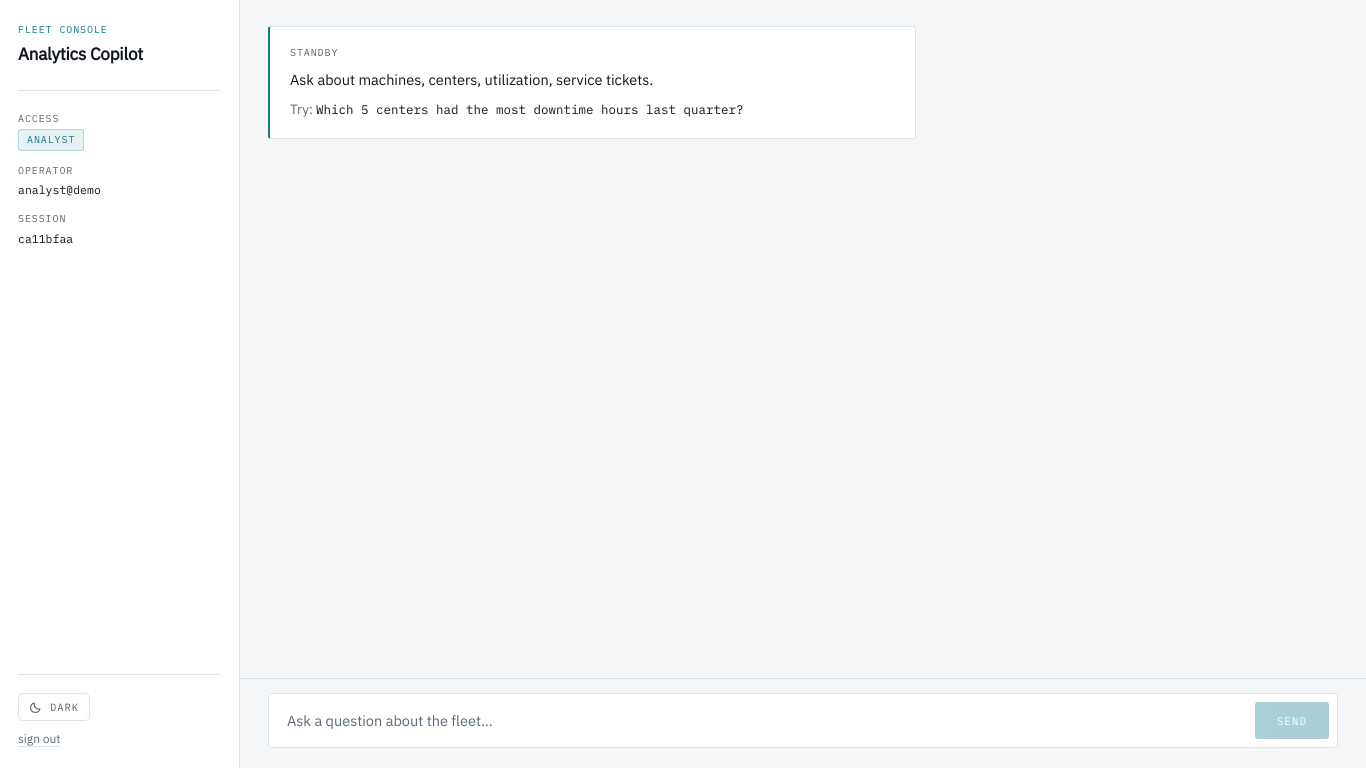
a 401 from /chat clears auth and returns the user to the login screen
The image size is (1366, 768).
Type "how many machines are online" into the field with placeholder "Ask a question about the fleet…" at (761, 720), box [277, 702, 1245, 739]
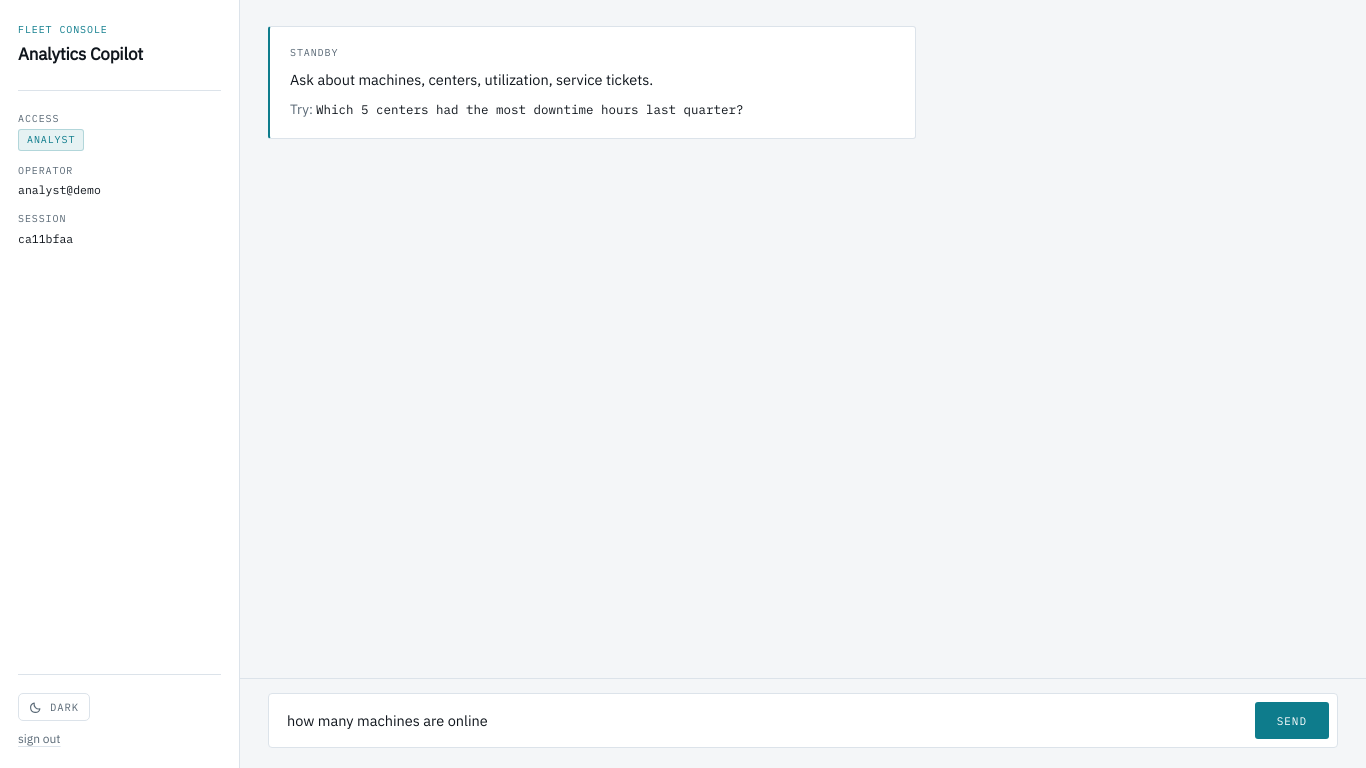
Click the button "Send" at (1292, 720), box [1255, 702, 1329, 739]
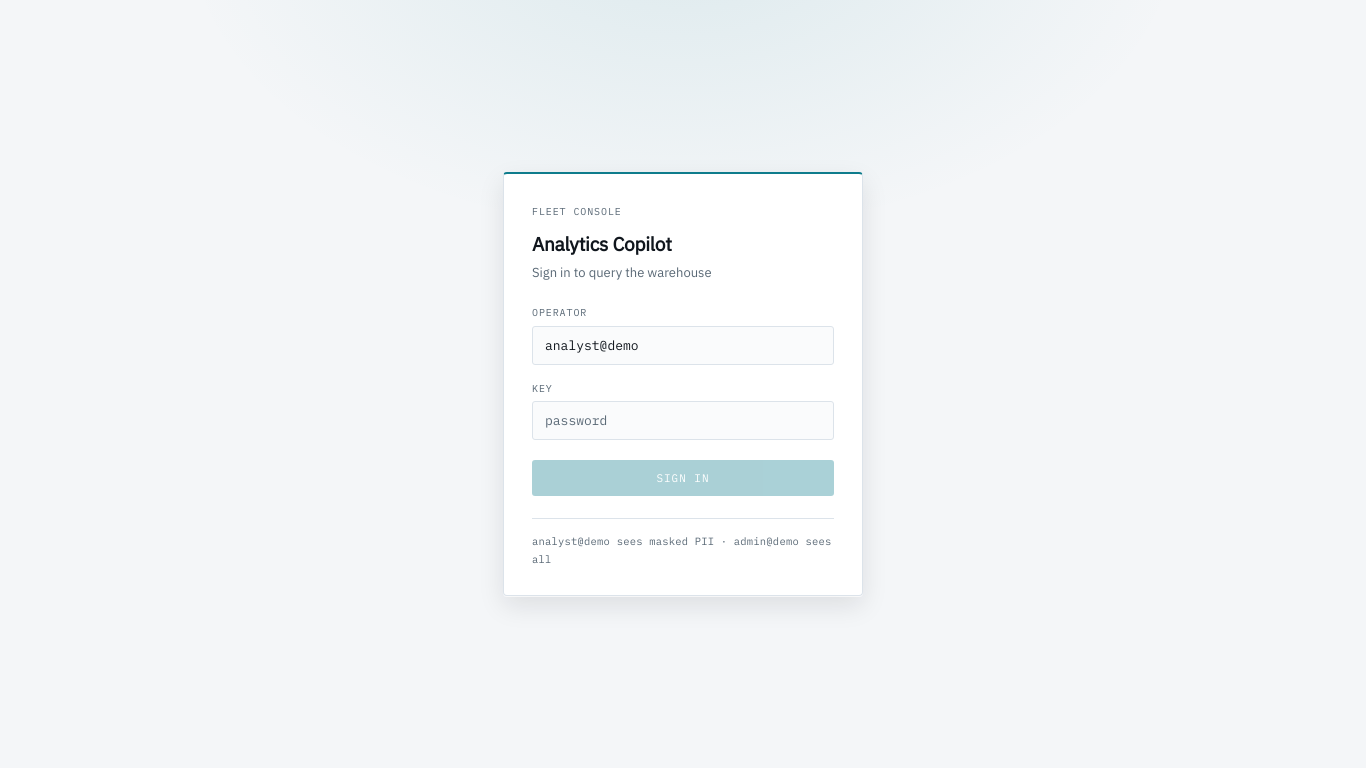
Check: the password field with placeholder "password" is shown, box [532, 401, 834, 440]
